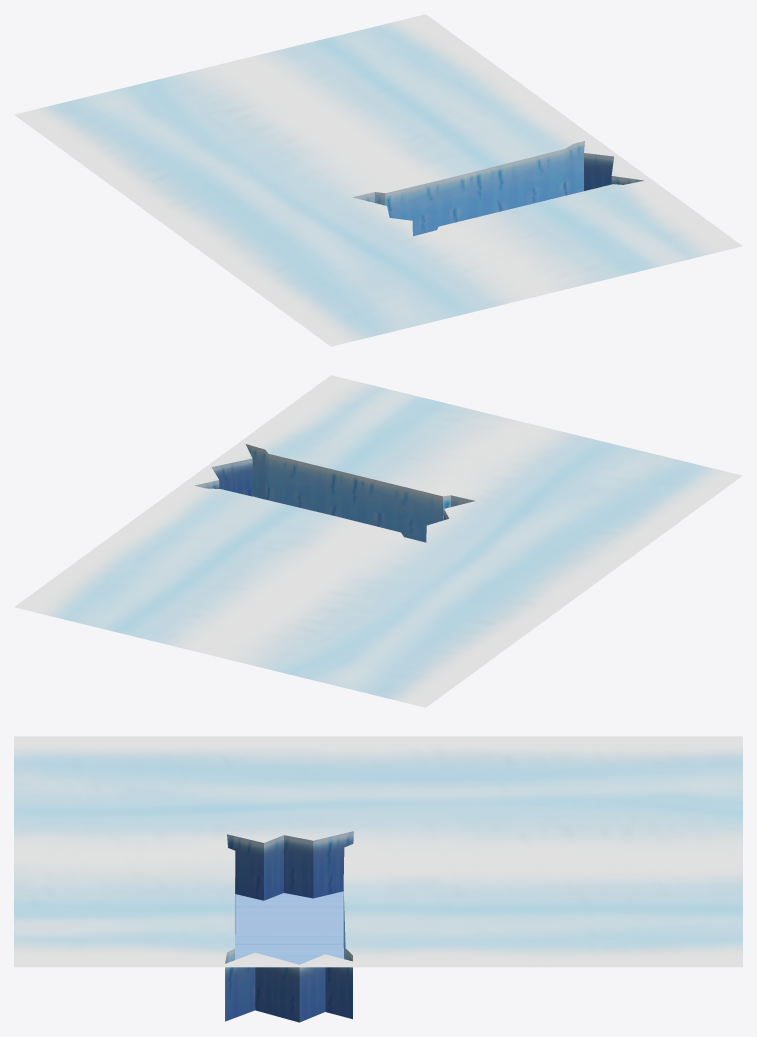
The model's file is Hole_L_S_02_R.FBX.
The picture shows the model from 3 angles, top to bottom: view 1: azimuth 30°, elevation 25°; view 2: azimuth 150°, elevation 25°; view 3: azimuth 270°, elevation 25°; orthographic projection. The views are drawn at different scales.
Parts seen in each view (by area): view 1: Object134; view 2: Object134; view 3: Object134.
Boxes of the visible parts, x1,y1,x2,y2 form: Object134: (14,14,742,346); Object134: (14,375,742,707); Object134: (14,736,742,1022).
Bounding box in the file's own units: 600 × 70 × 800.
